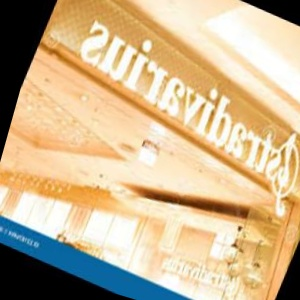stradivarius: (277, 127, 300, 175)
